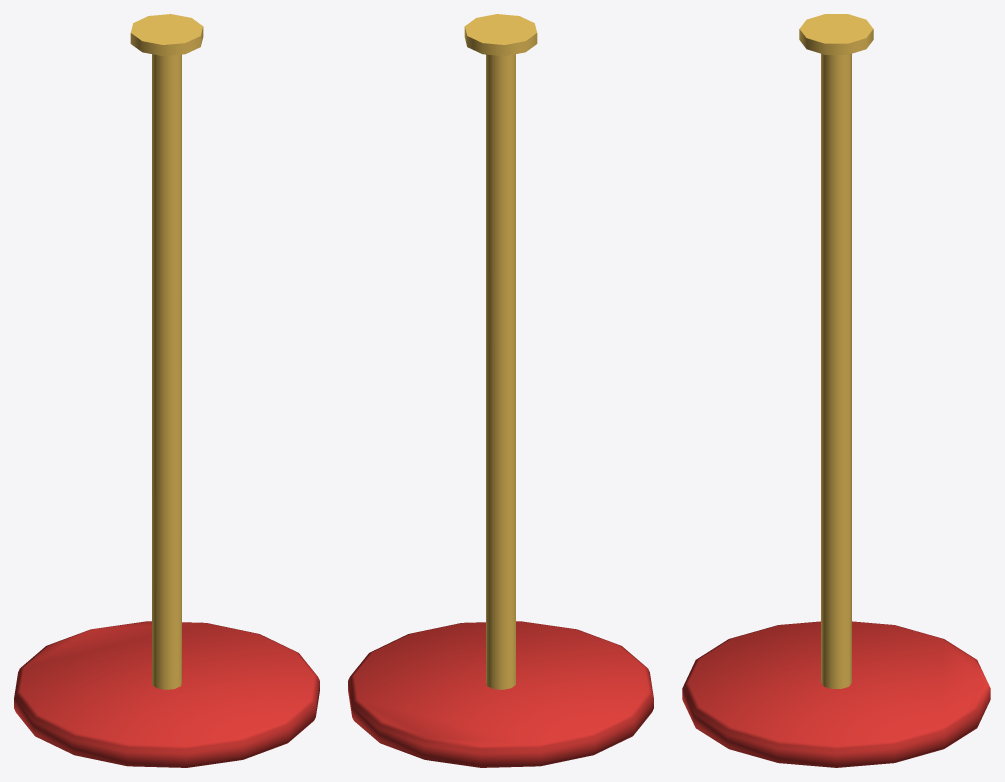
Rendered from v_fire_pole.glb.
The picture shows the model from 3 angles, left to right: view 1: azimuth 30°, elevation 25°; view 2: azimuth 150°, elevation 25°; view 3: azimuth 270°, elevation 25°; orthographic projection.
Visible parts, largest first — view 1: FirePole; view 2: FirePole; view 3: FirePole.
Part boxes in pixels (left/top/right/bottom): FirePole: left=14, top=14, right=319, bottom=767; FirePole: left=348, top=14, right=653, bottom=767; FirePole: left=682, top=14, right=990, bottom=767.
Size of the model in its own units: 1 by 2.42 by 1.
